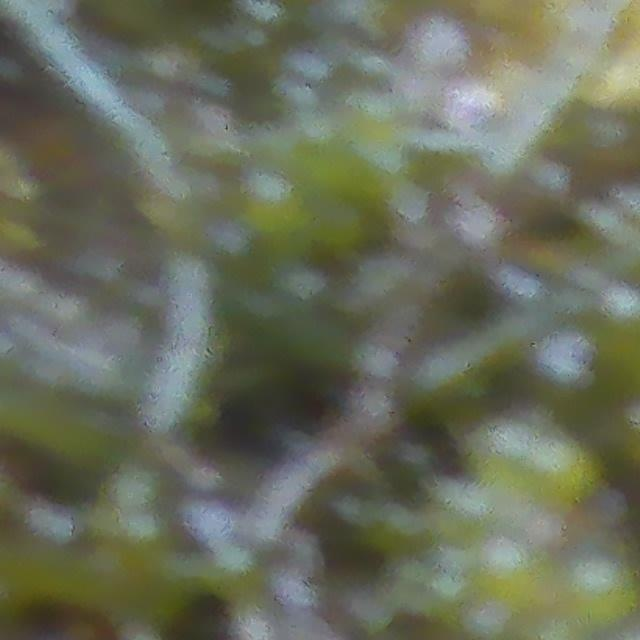SeaGrape: (558, 545, 640, 634)
